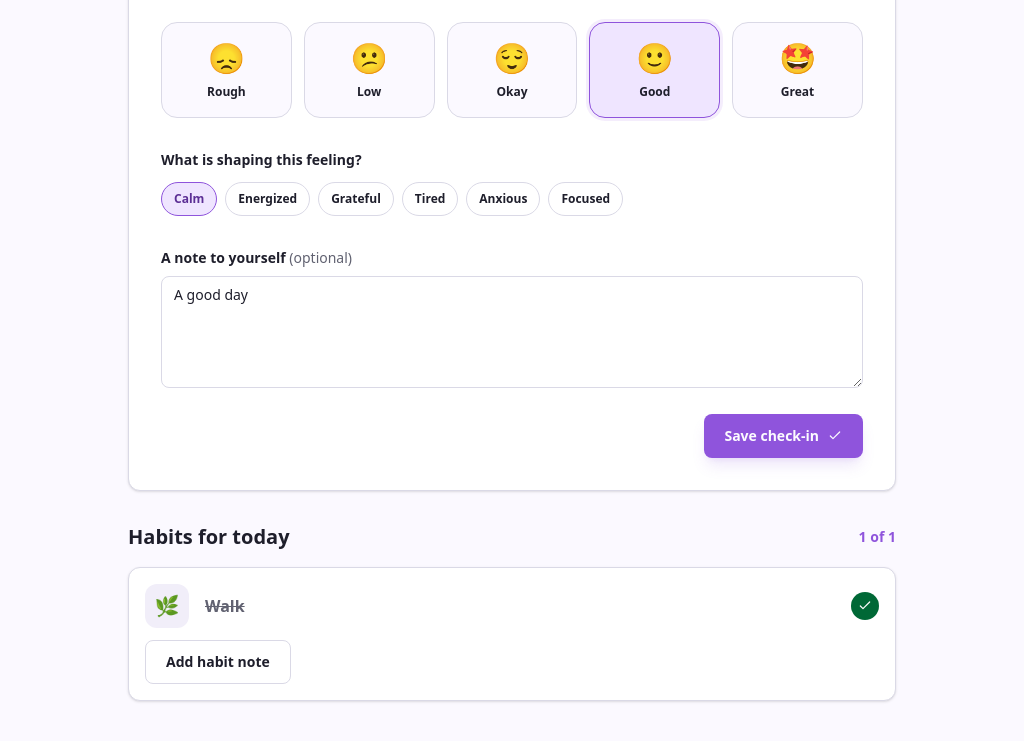
Test: detects a saved habit note after a lost response without repeating PATCH
The width and height of the screenshot is (1024, 741).
(page scrolled)
Click the button "Add habit note".
click(218, 662)  # box [145,640,291,684]
(page scrolled)
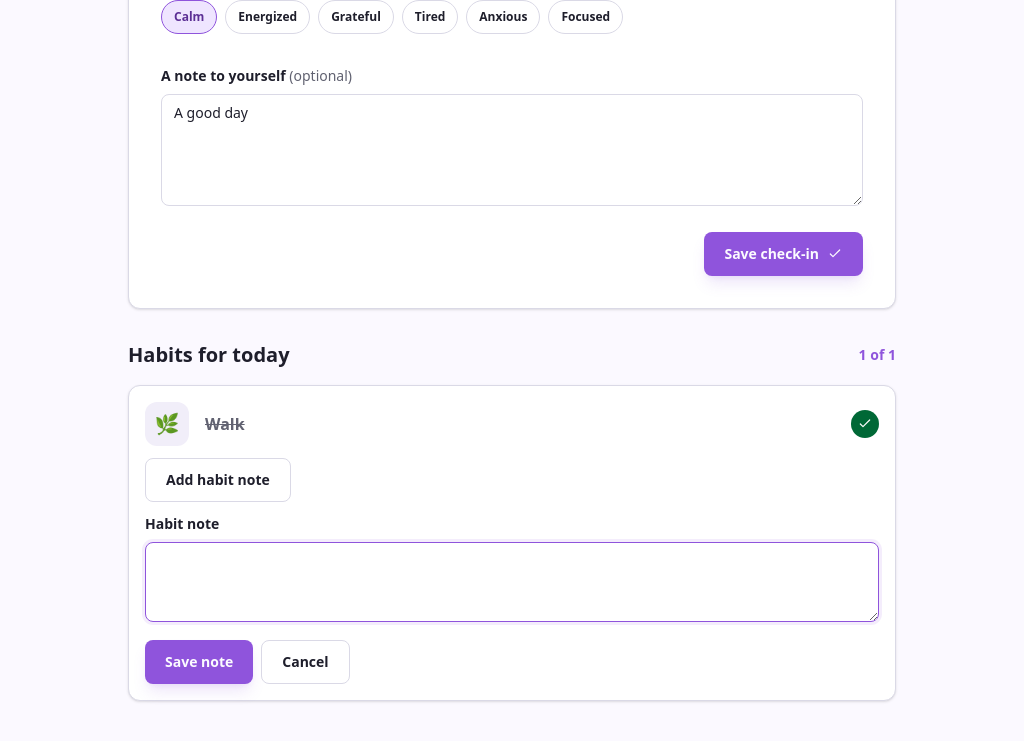
Type "Already saved" into the text box labelled "Habit note".
click(512, 582); type("Already saved")  # box [145,542,879,622]
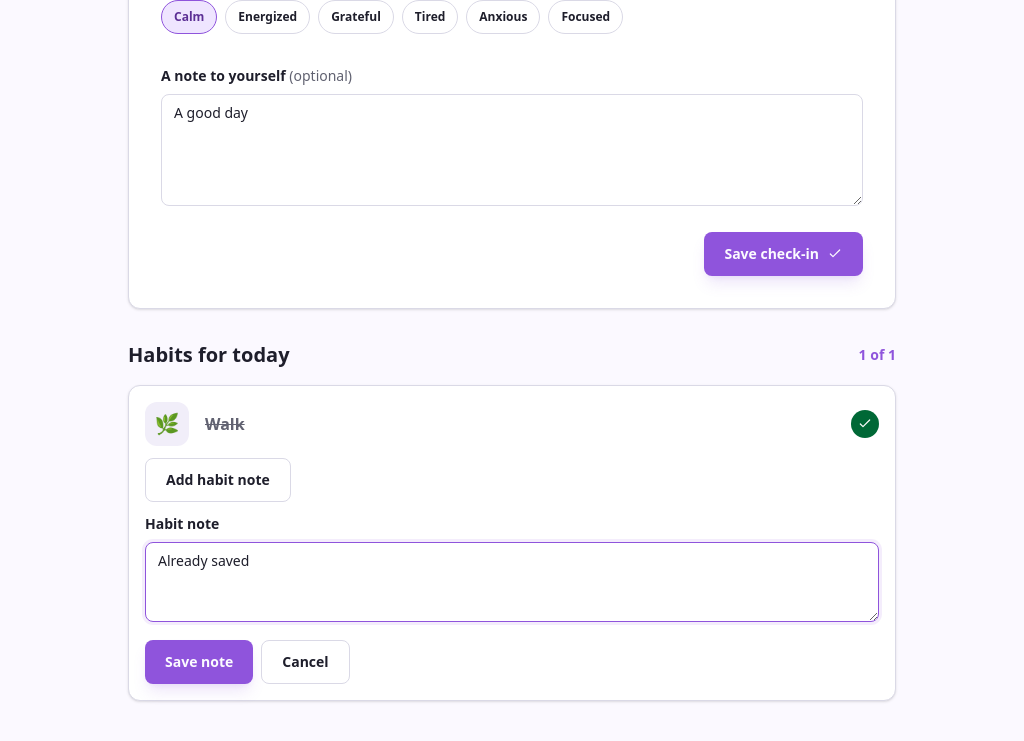
Click the button "Save note".
click(199, 662)  # box [145,640,253,684]
(page scrolled)
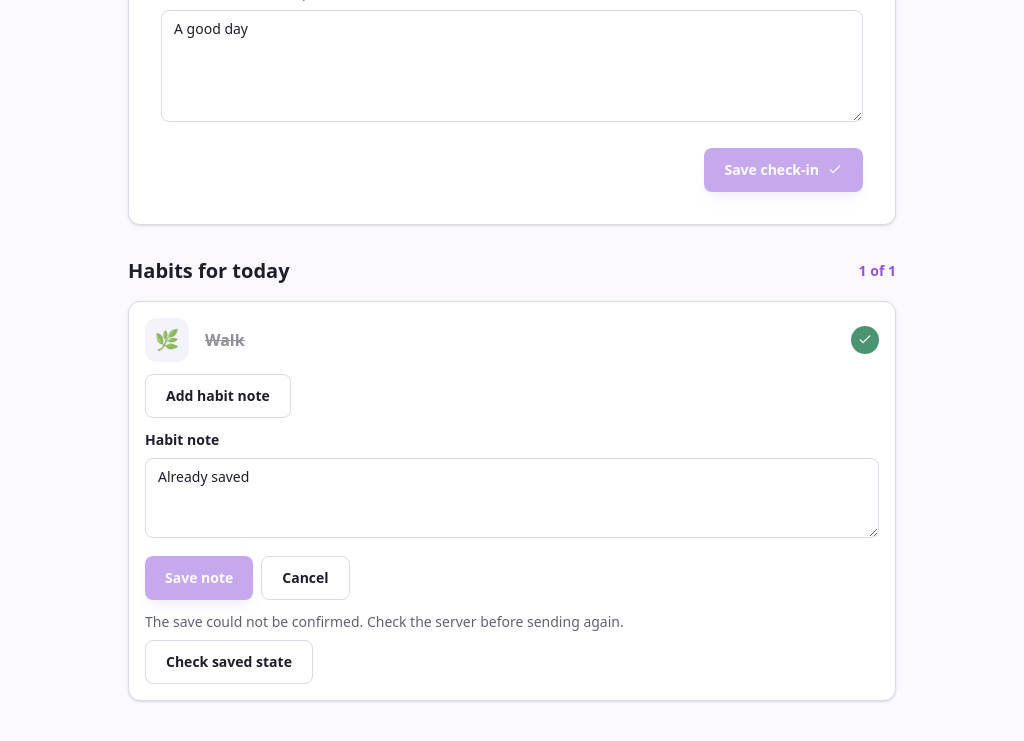
Click the button "Check saved state".
click(229, 662)  # box [145,640,313,684]
(page scrolled)
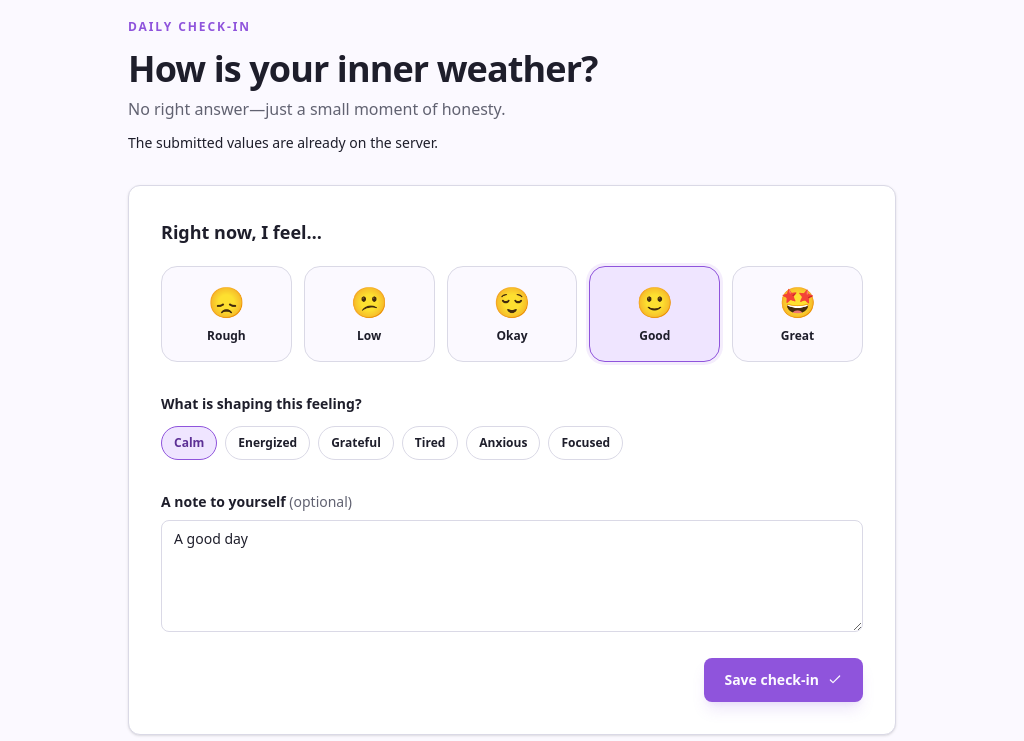
Check: the field labelled "Habit note" is not shown
Check: the text "The submitted values are already on the server." is shown, box [128,133,438,152]
